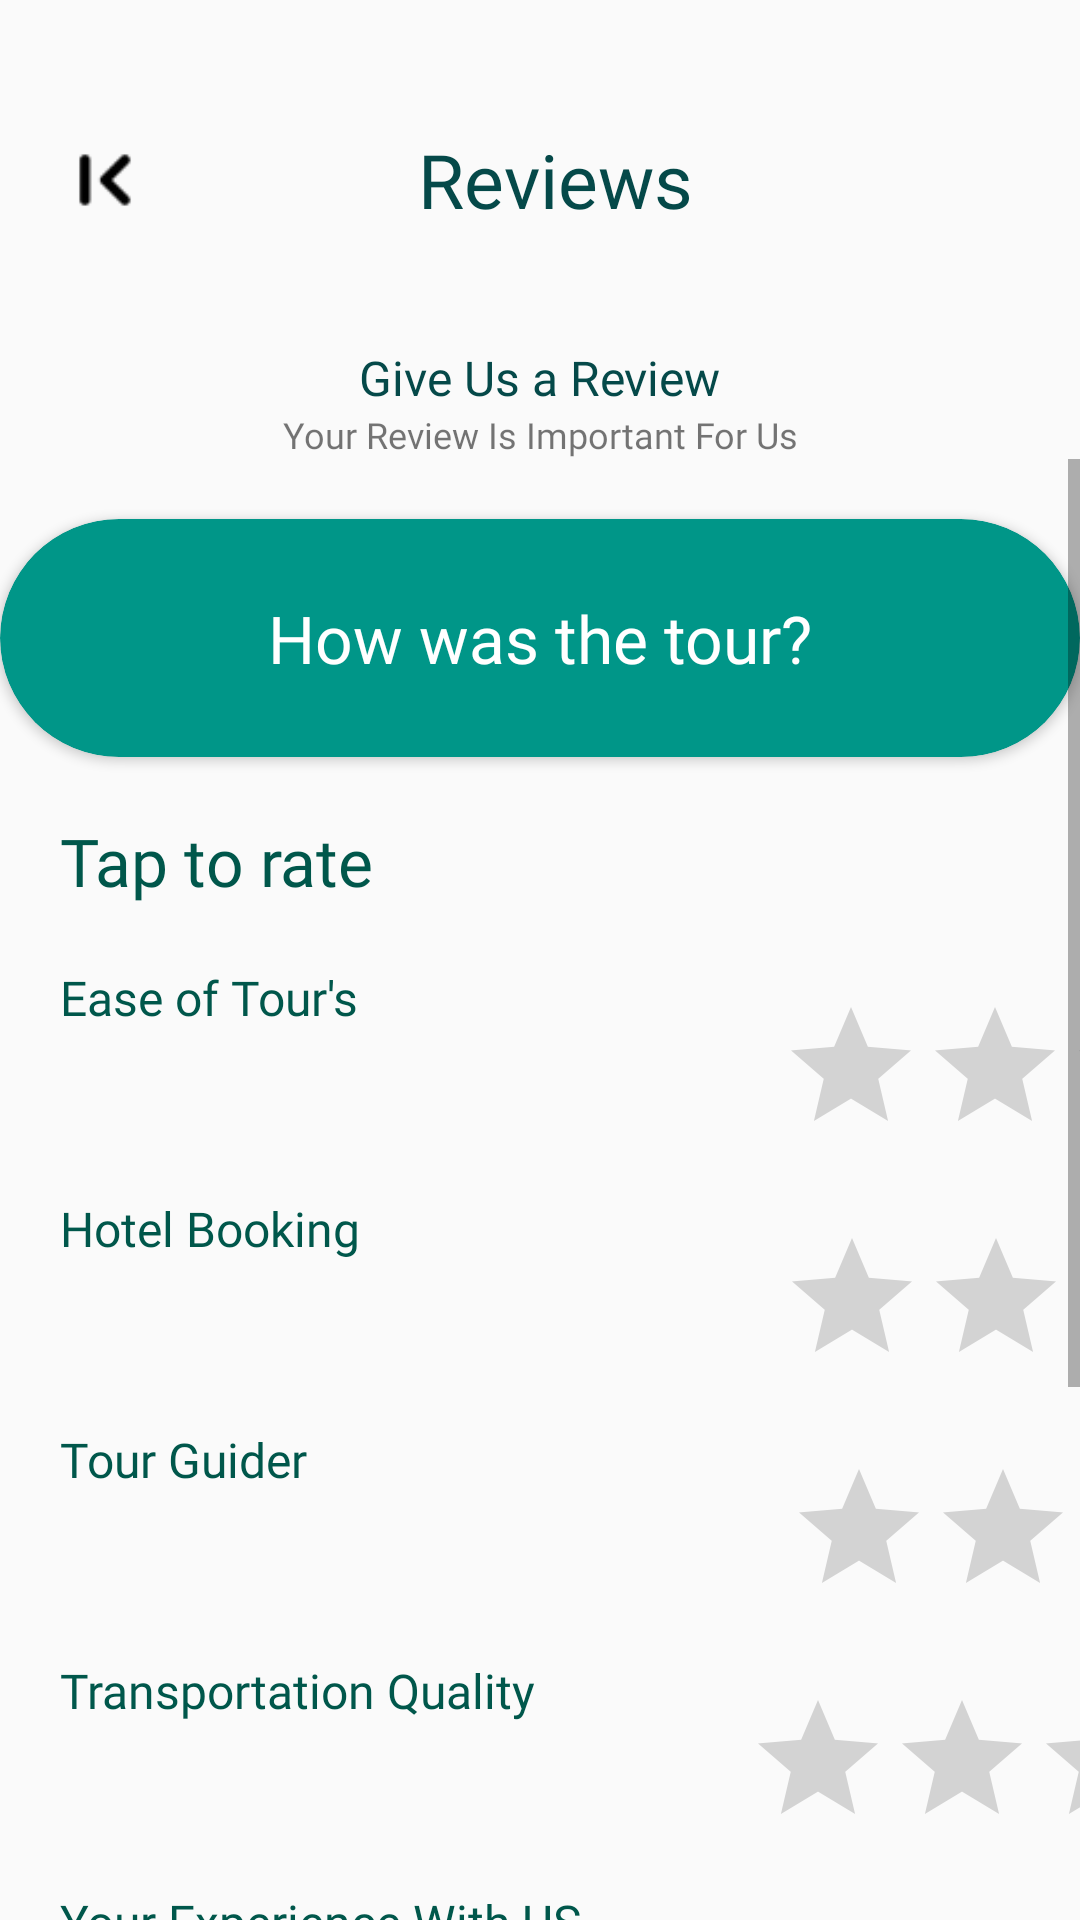

Icon bounding boxes for this 1080*1920 phone screenshot, format (x1,y1,x2,y2):
back: (79,154,131,206)
